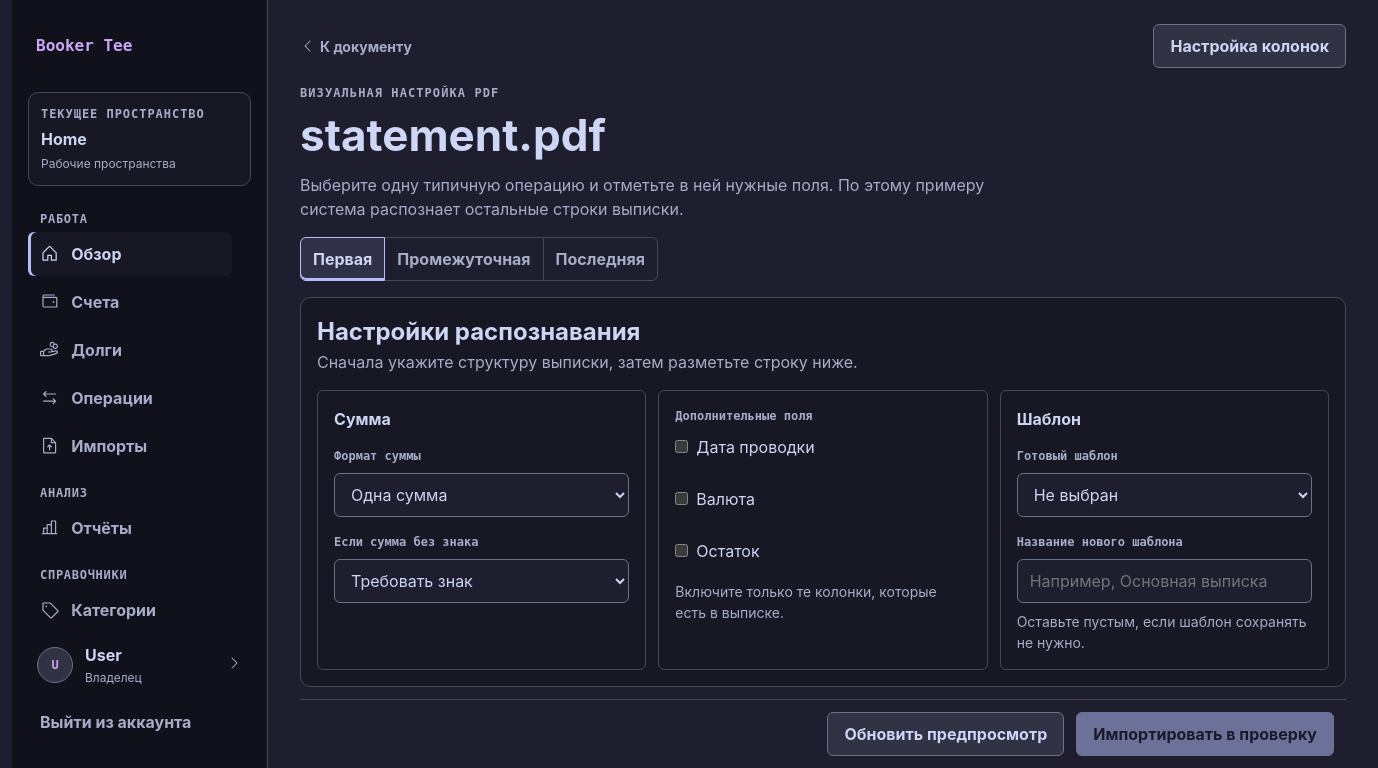
VisualCoordinateMappingPage capability › applies a saved template and redirects after successful import
Select "Split template" in the dropdown labelled "Готовый шаблон": (1164, 495) [1017,473,1312,517]
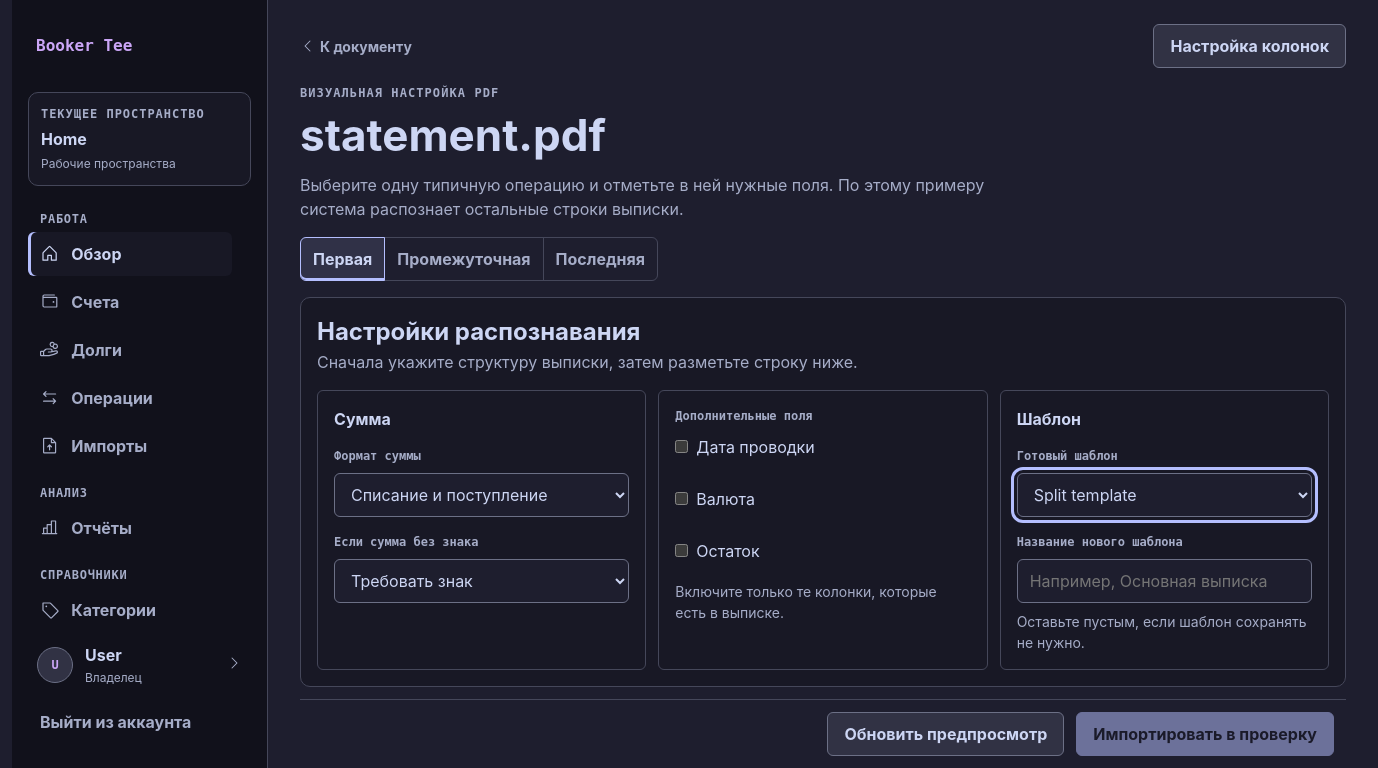
Now the dropdown labelled "Формат суммы" shows "Списание и поступление", box [334,473,629,517]
Click the button "Обновить предпросмотр": (946, 734) [828,712,1064,756]
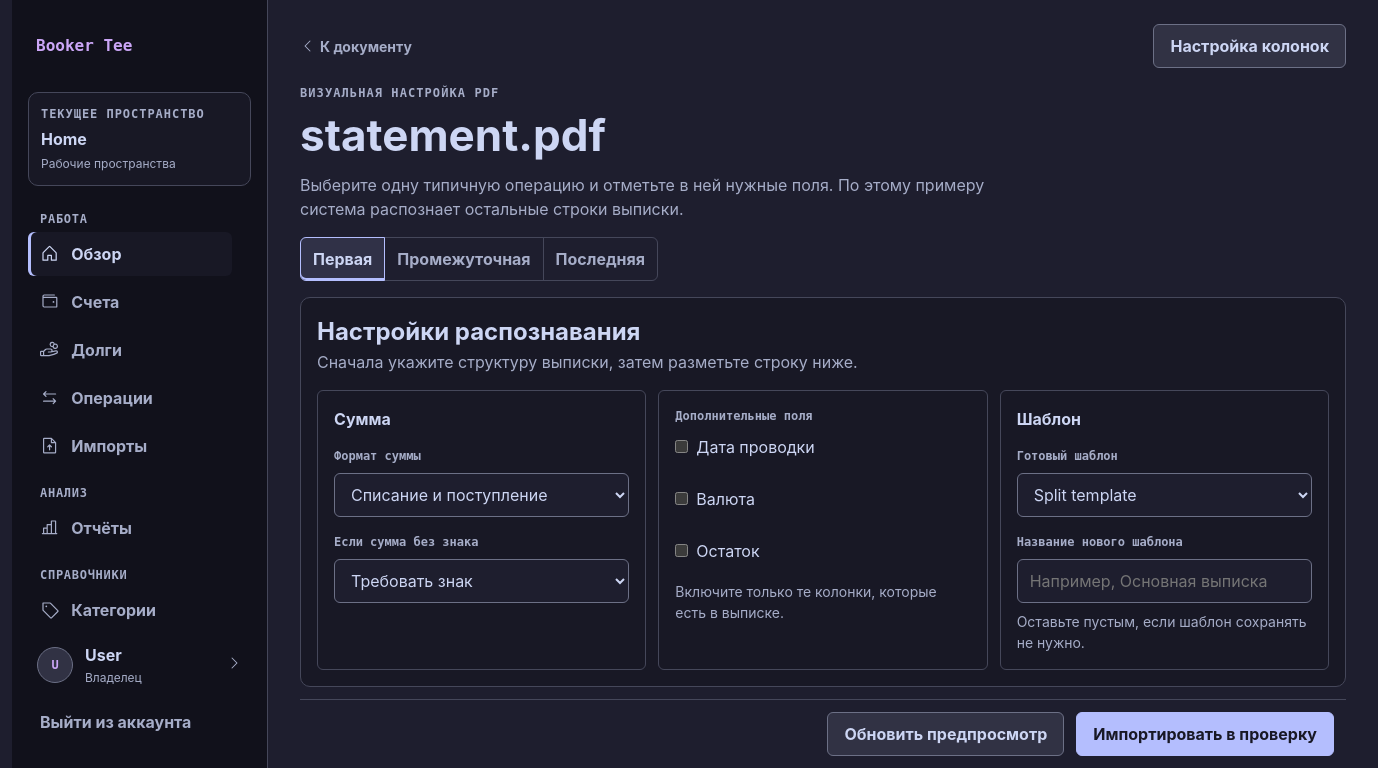
Click the button "Импортировать в проверку": (1205, 734) [1076,712,1334,756]
(page scrolled)
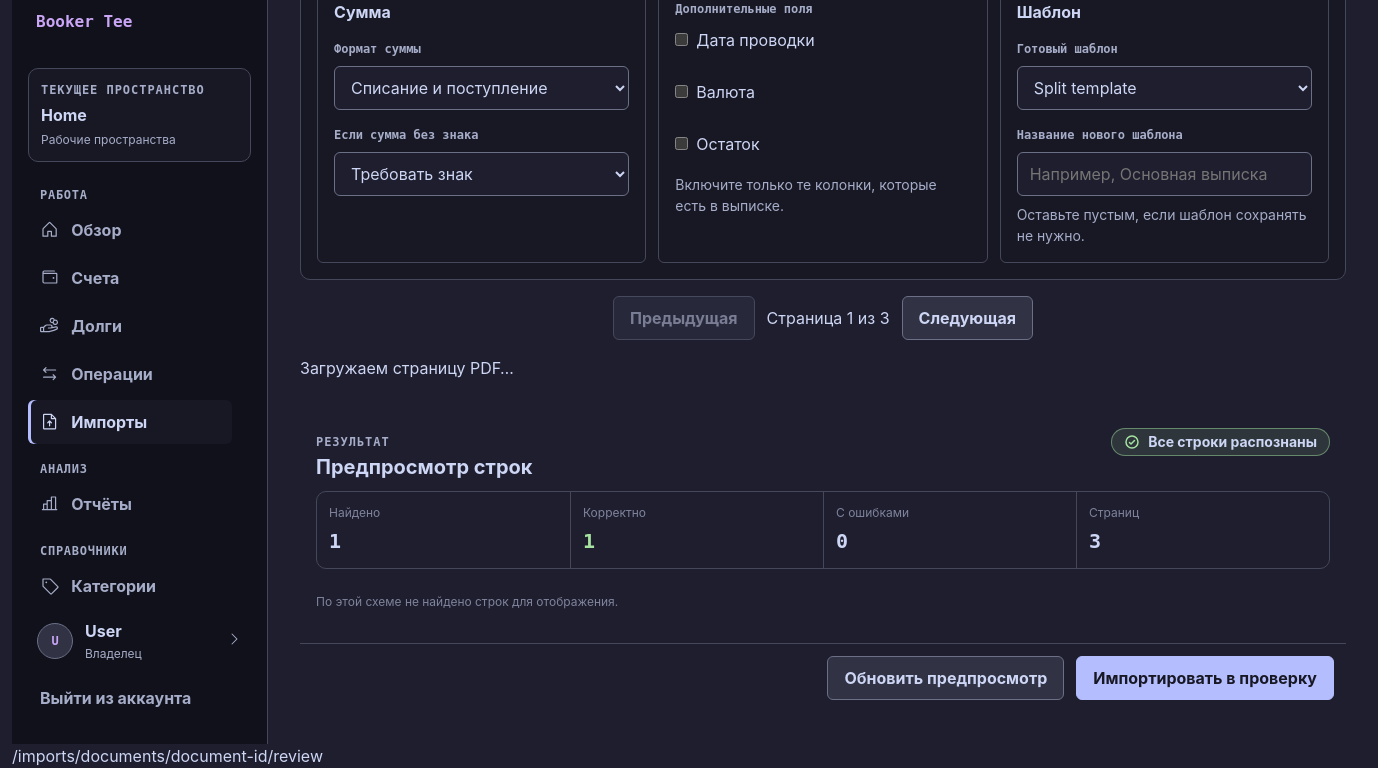
Now the text with test id "location" reads "/imports/documents/document-id/review", box [12,746,323,766]
